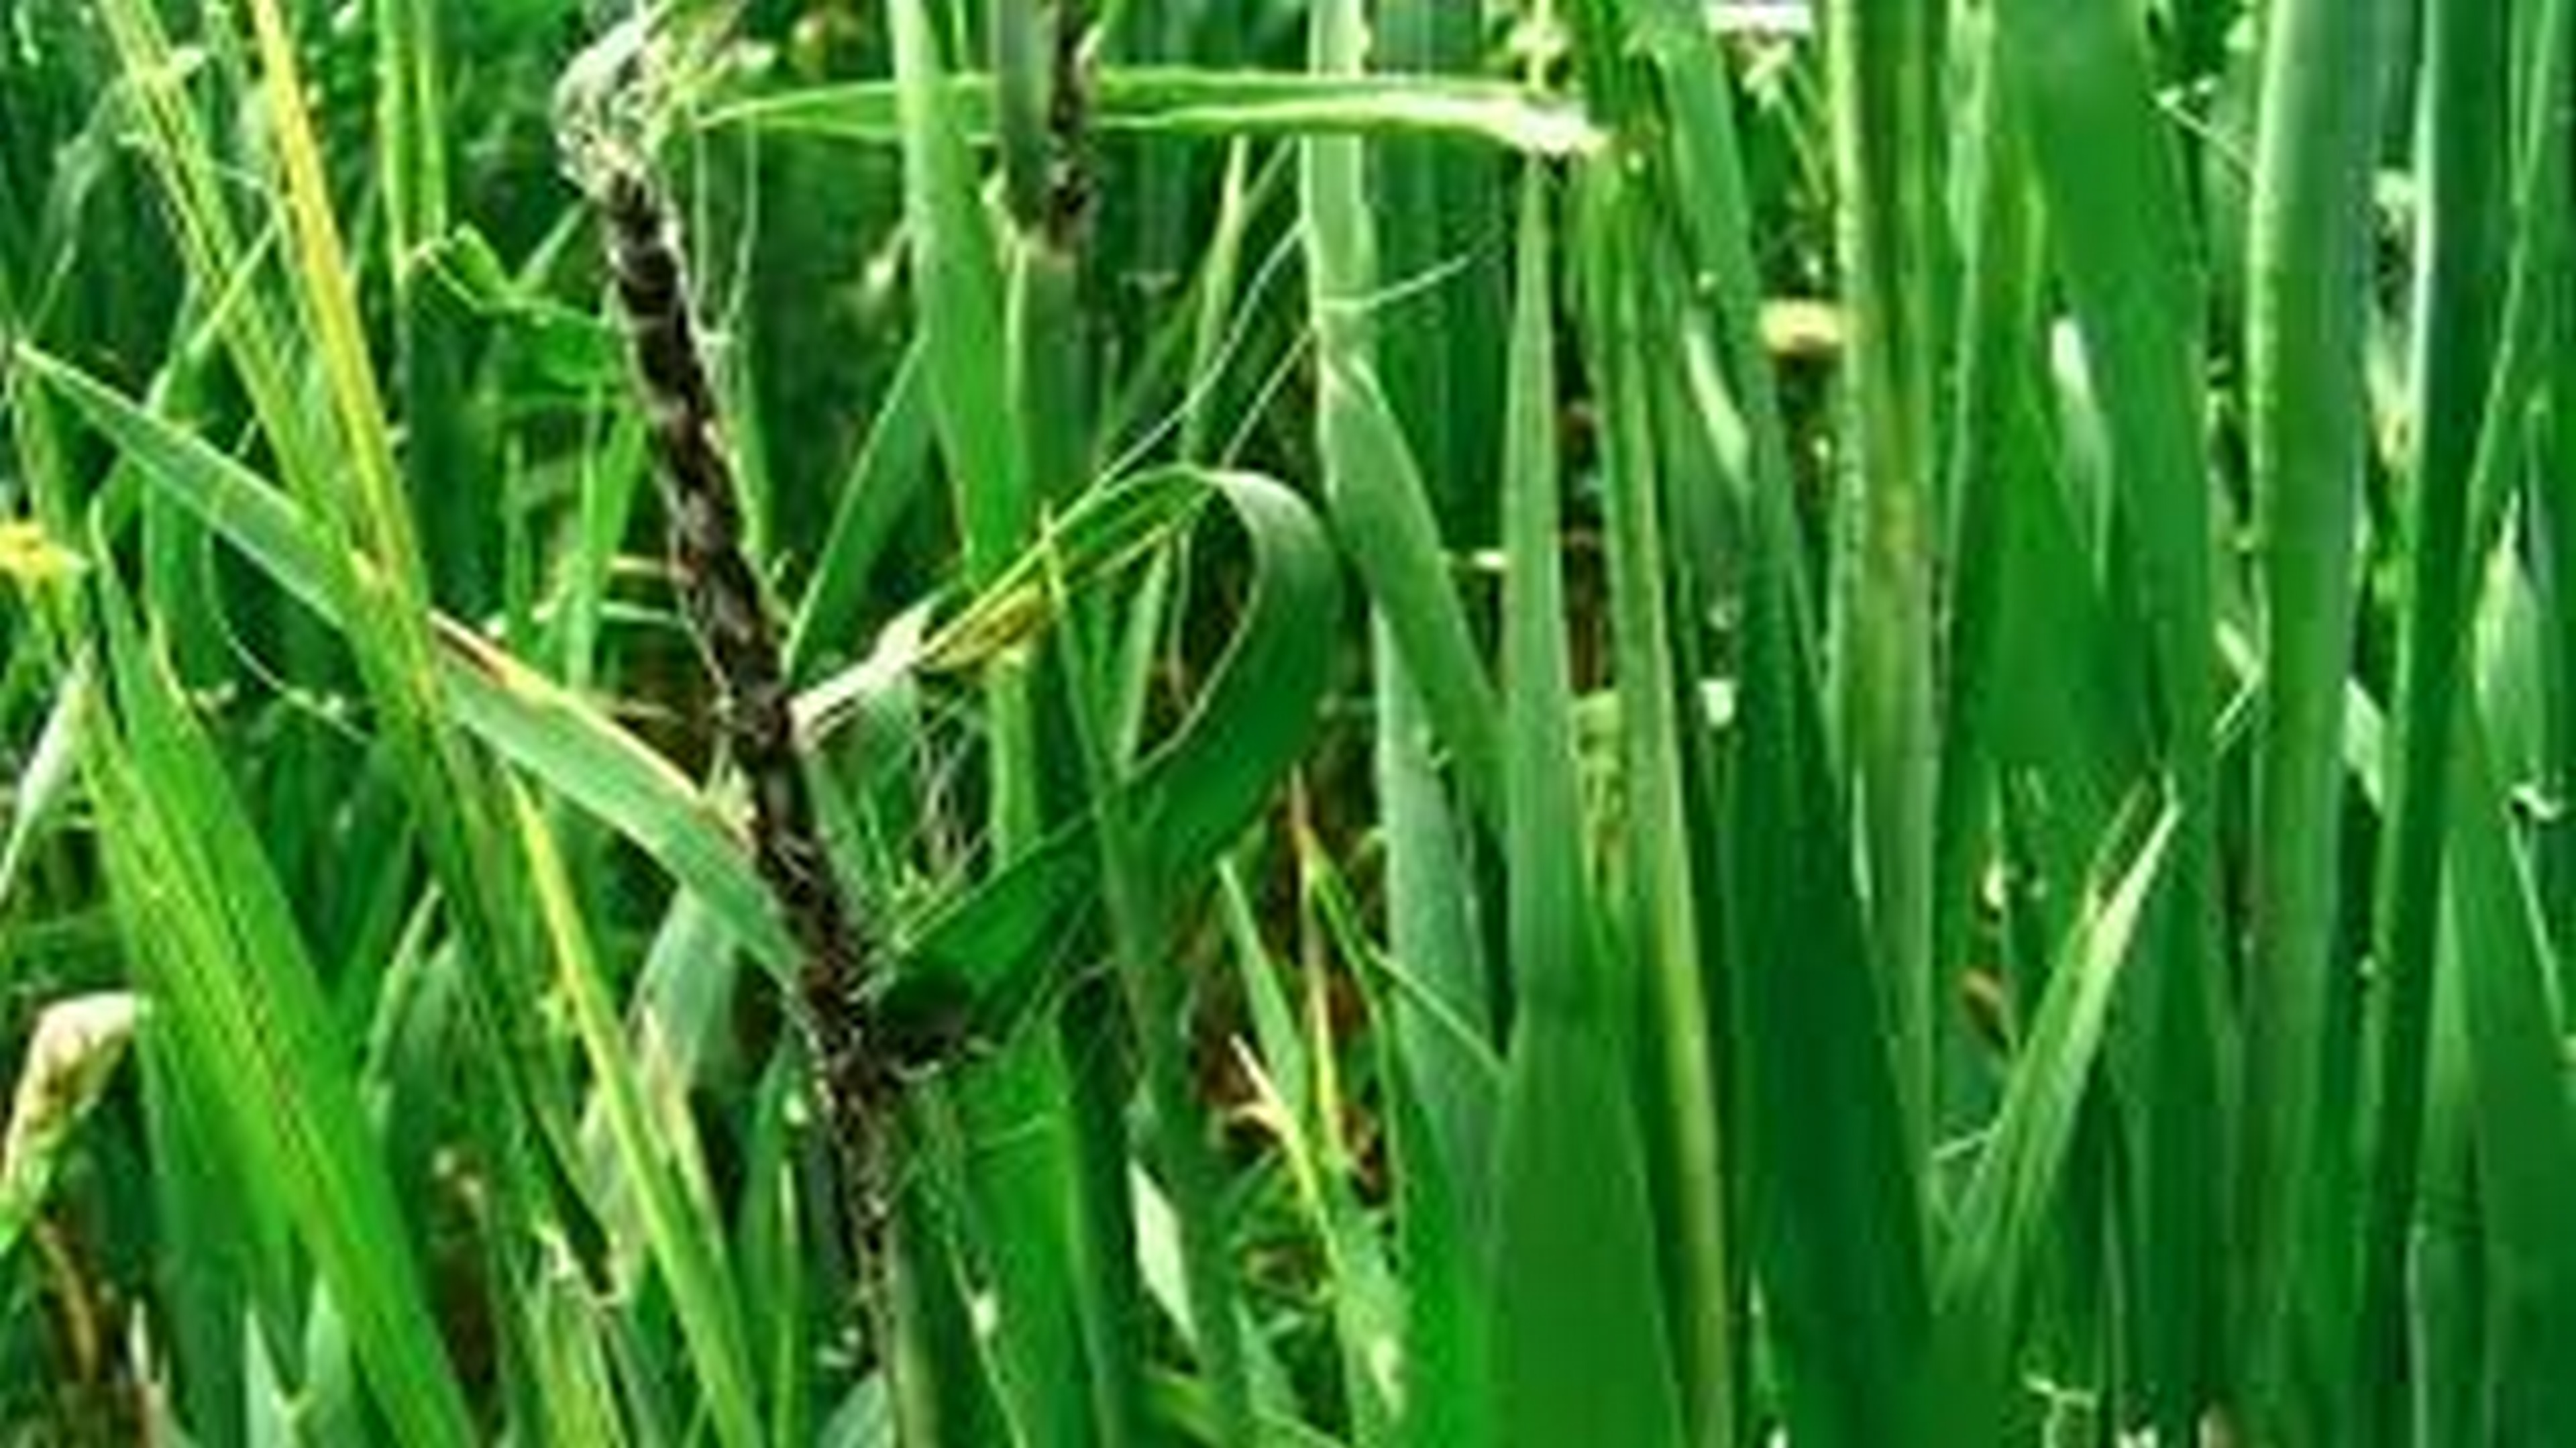Wheat Loose Smut: (540, 168, 939, 1131)
